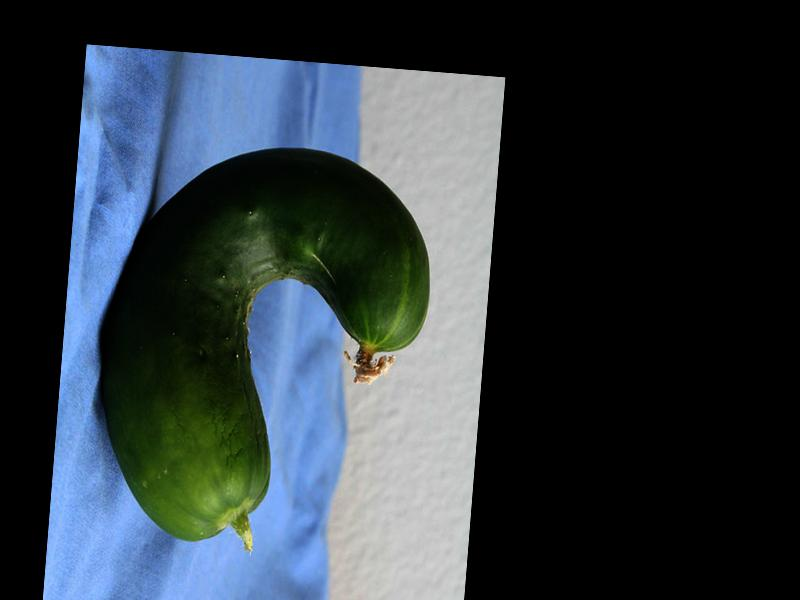Cucumber: (88, 132, 441, 558)
